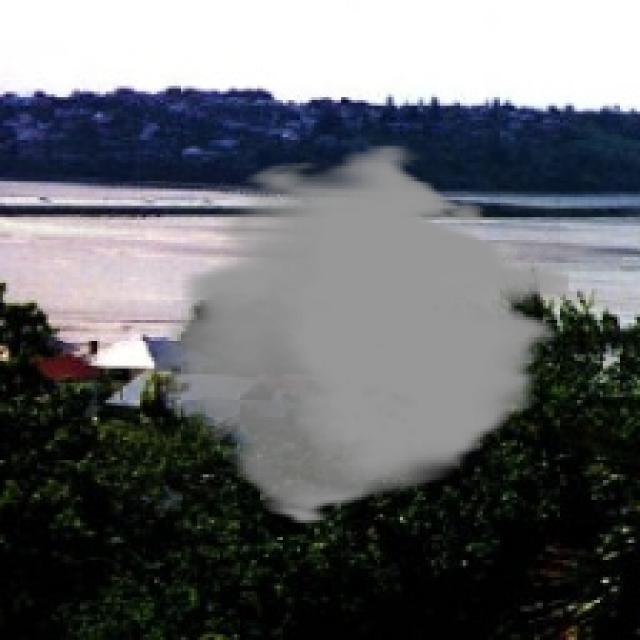Smoke: (157, 143, 569, 526)
